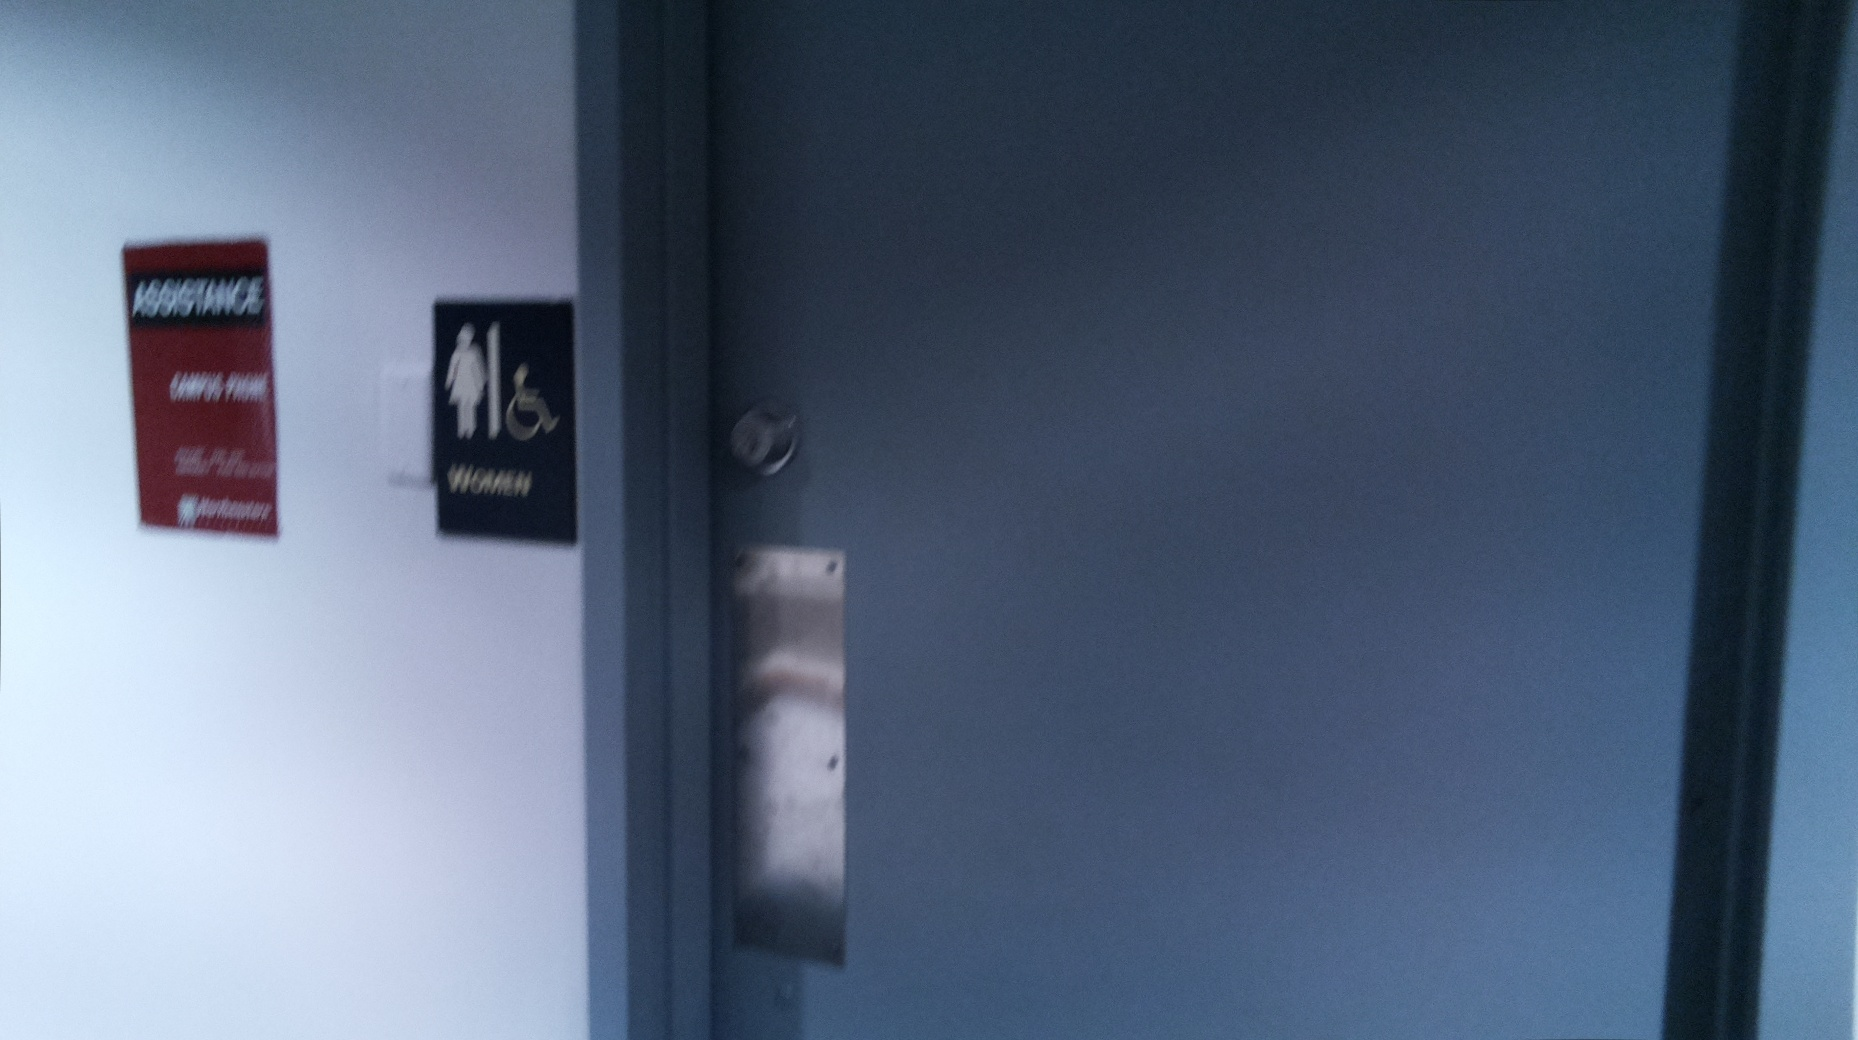bathroom sign: (427, 287, 584, 555)
